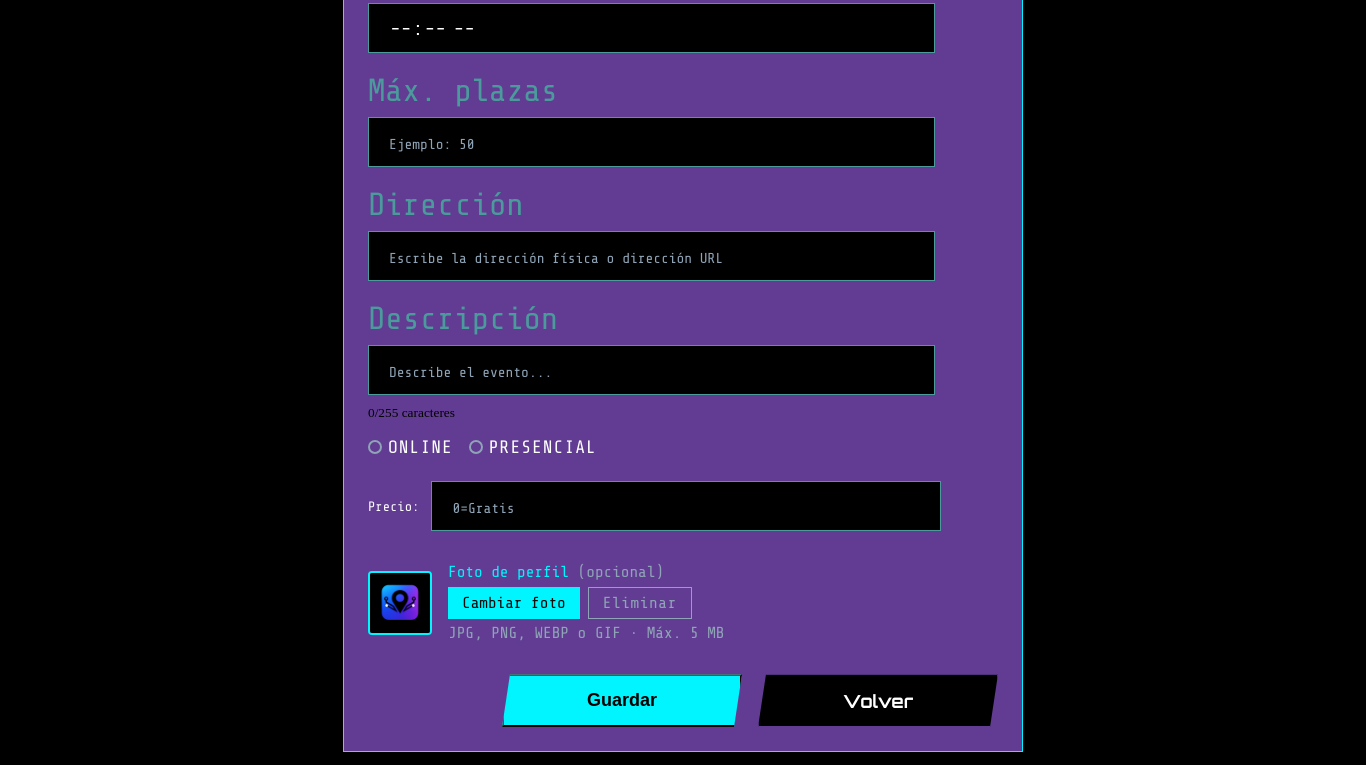
it: EventFormModal Component › valida errores específicos de formato (URL, precio negativo, descripción corta/larga)
The image size is (1366, 765).
(page scrolled)
Click the radio button labelled "ONLINE".
click(410, 447)  # box [368,437,453,457]
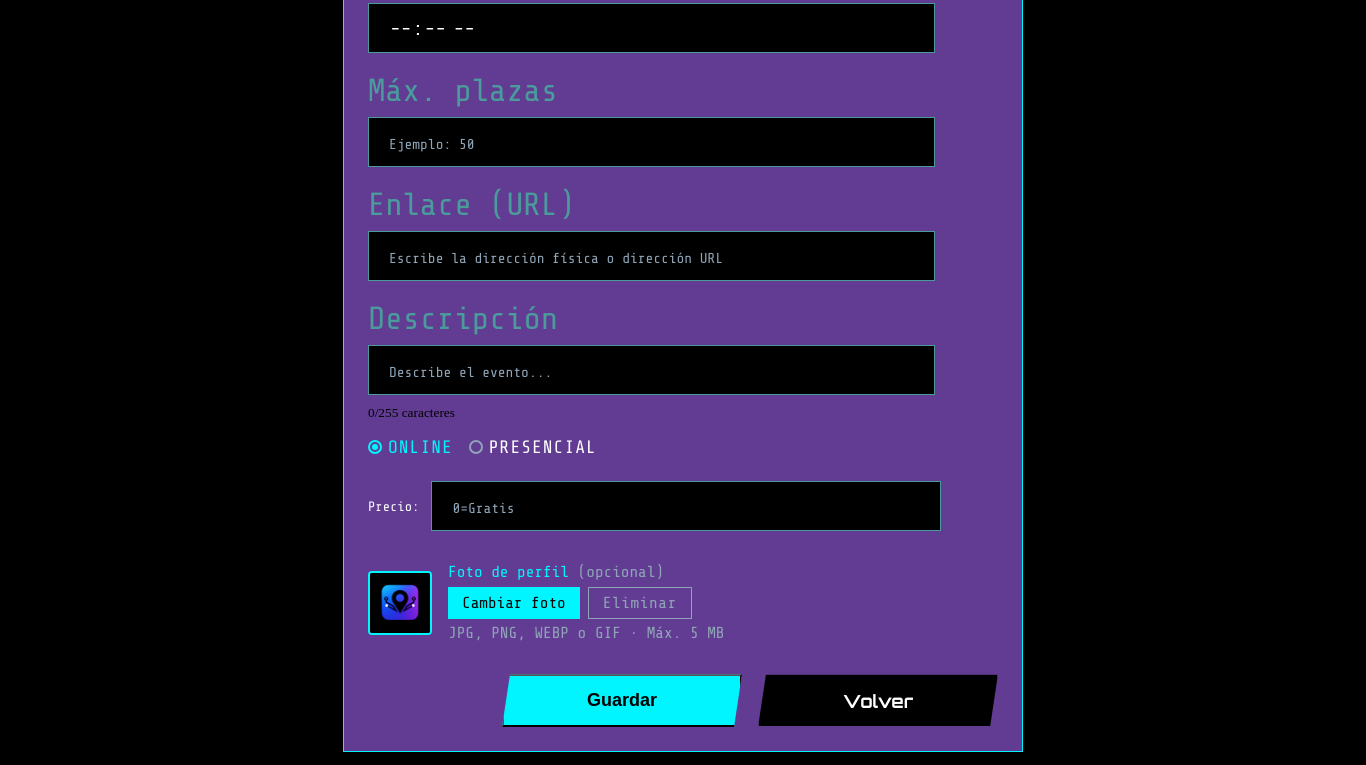
Type "ftp://servidor" into the field labelled "Enlace (URL)".
click(652, 256); type("ftp://servidor")  # box [368,231,935,281]
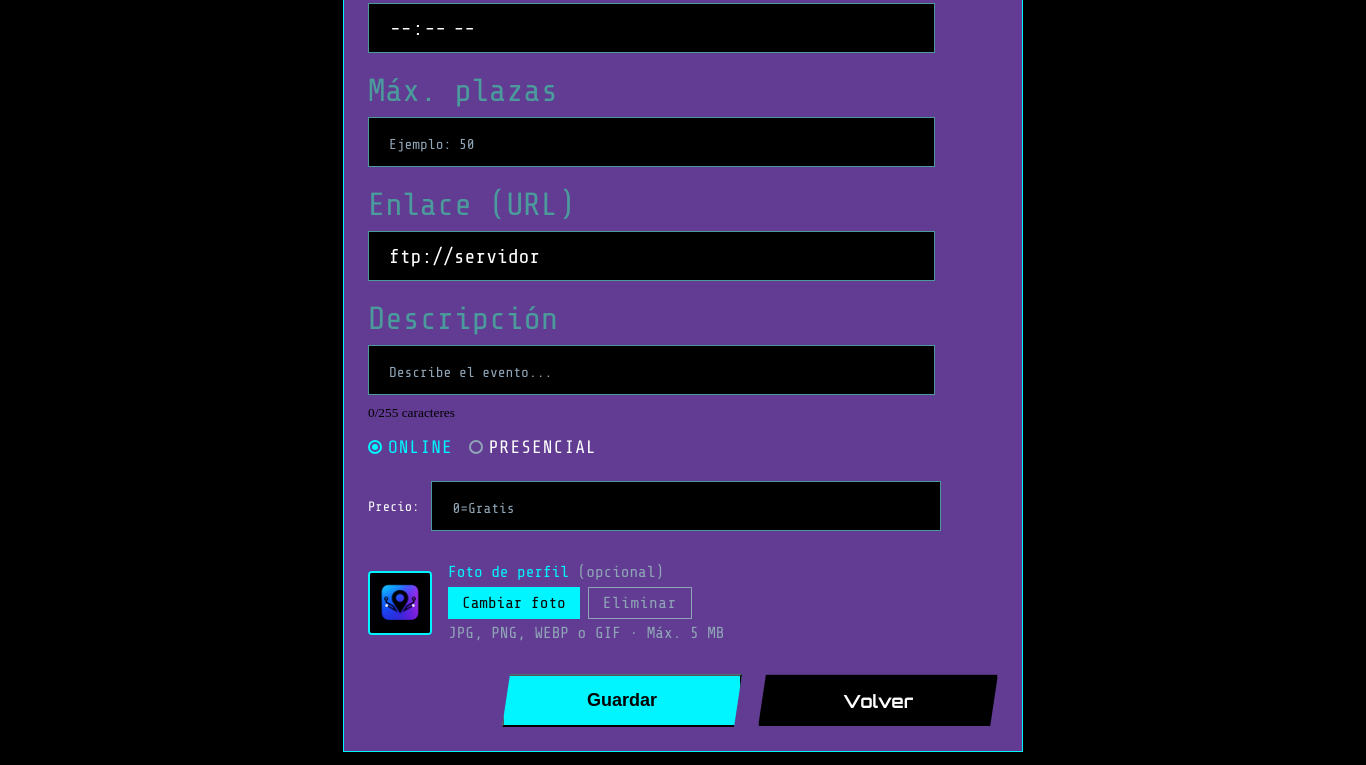
Type "-10" into the number field with placeholder "0=Gratis".
click(686, 506); type("-10")  # box [431,481,941,531]
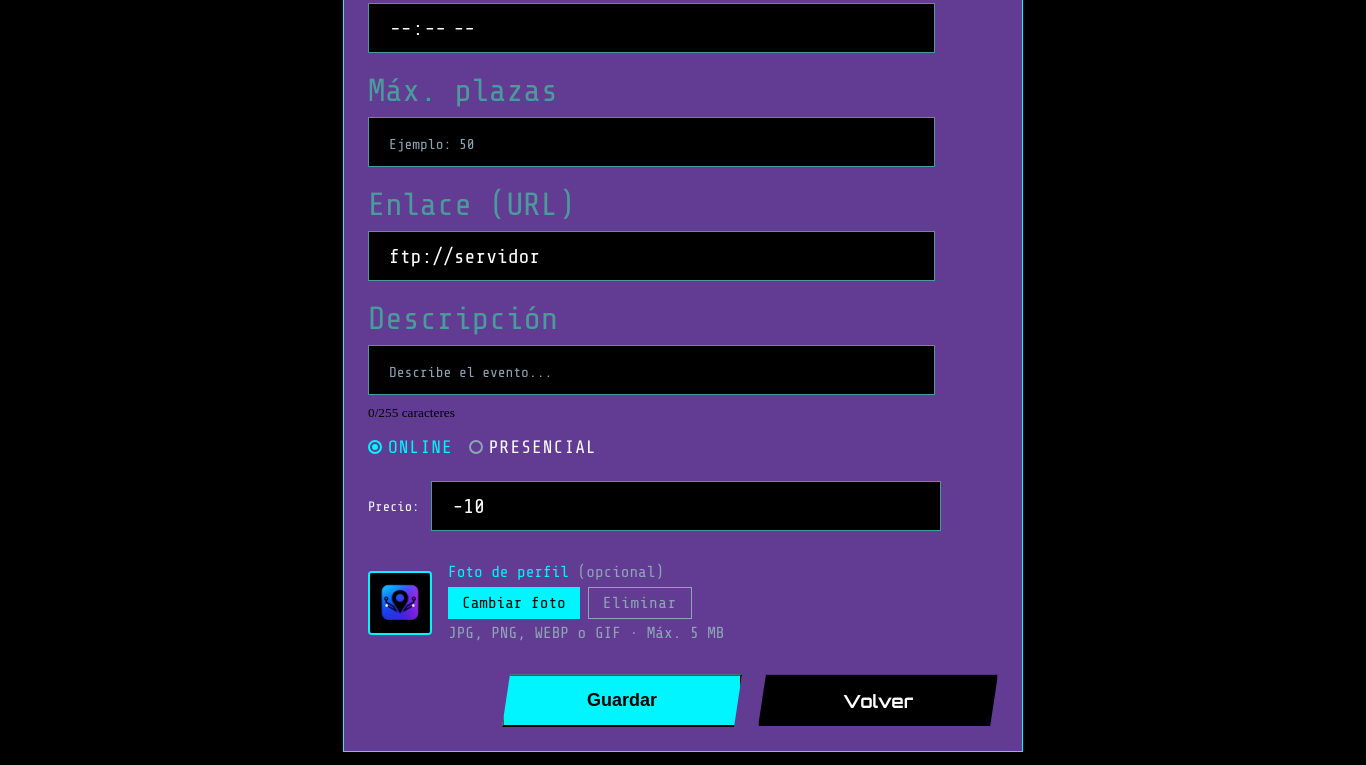
Type "Corta" into the field with placeholder "Describe el evento...".
click(652, 370); type("Corta")  # box [368,345,935,395]
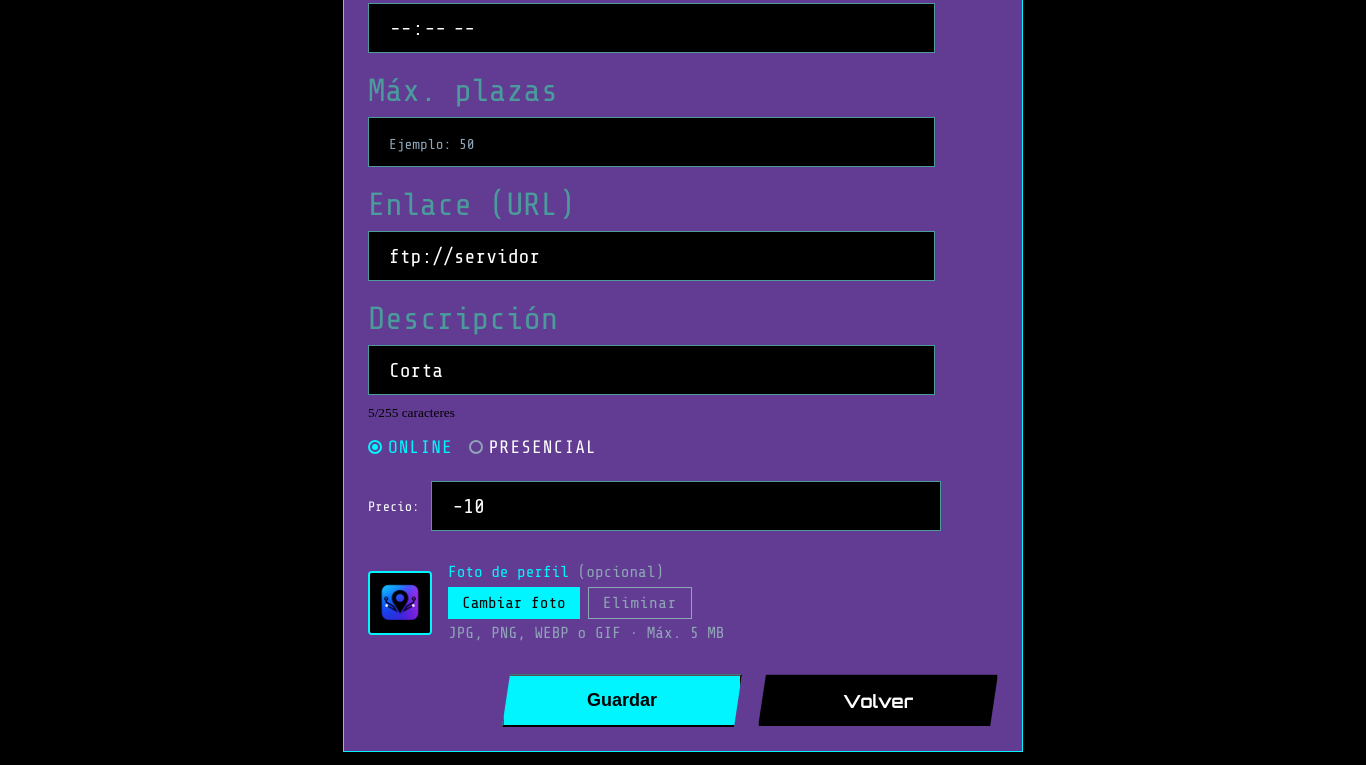
Click the button "Guardar".
click(622, 701)  # box [502,674,742,727]
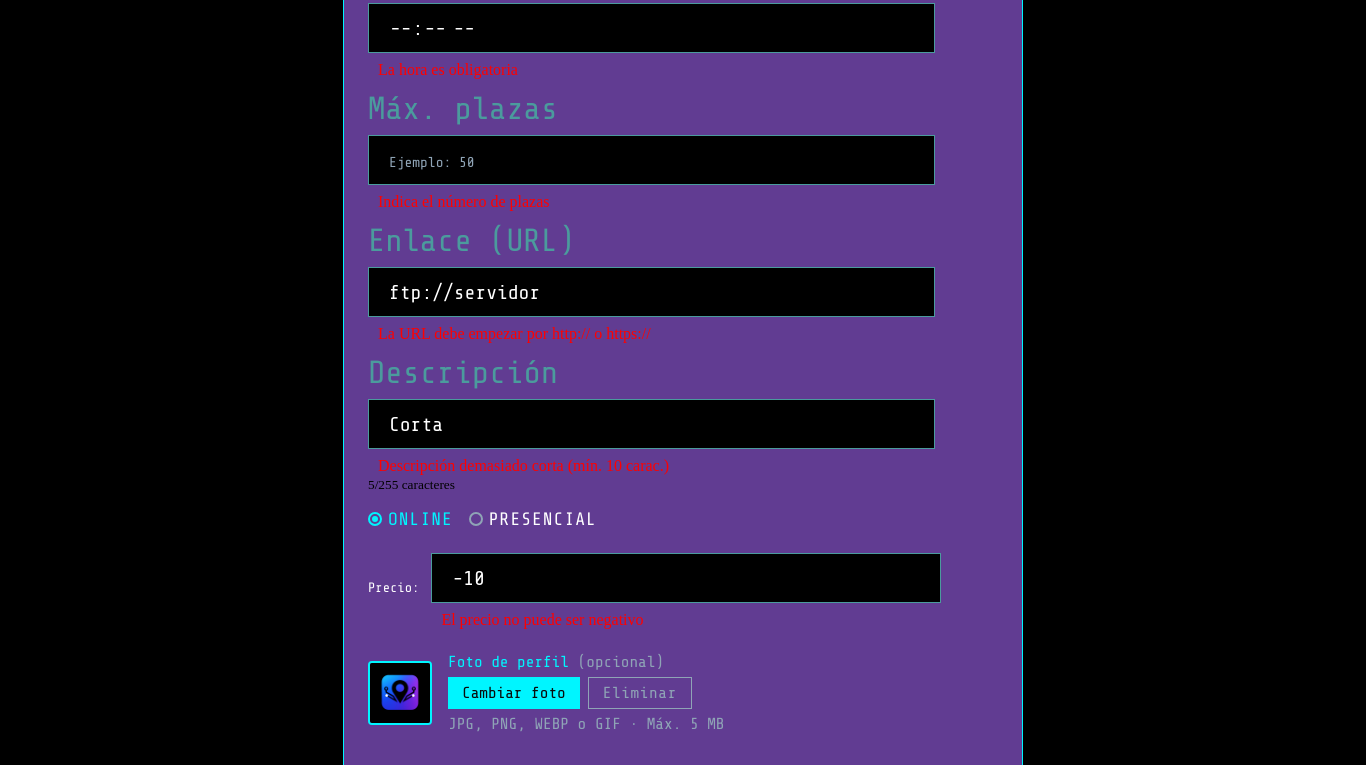
Result: the text "La URL debe empezar por http:// o https://" is shown at [378,325,651,342]
Result: the text "El precio no puede ser negativo" is shown at [441,611,644,628]
Result: the text "Descripción demasiado corta (mín. 10 carac.)" is shown at [378,457,669,474]
